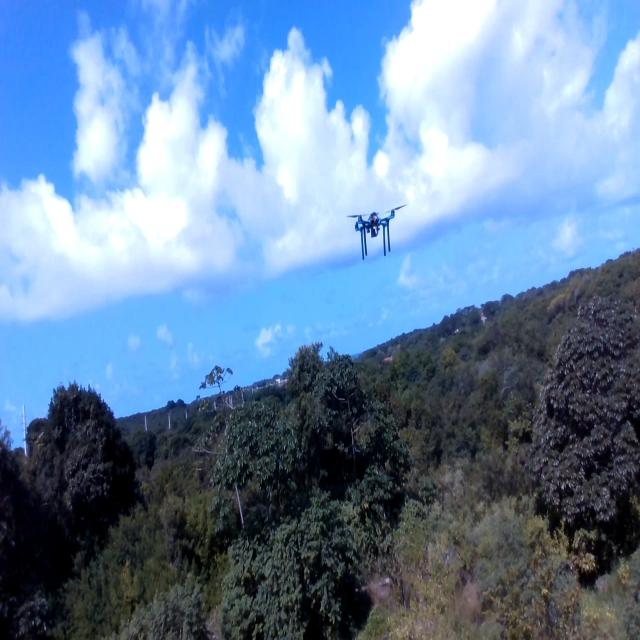-uav-: (336, 197, 412, 264)
